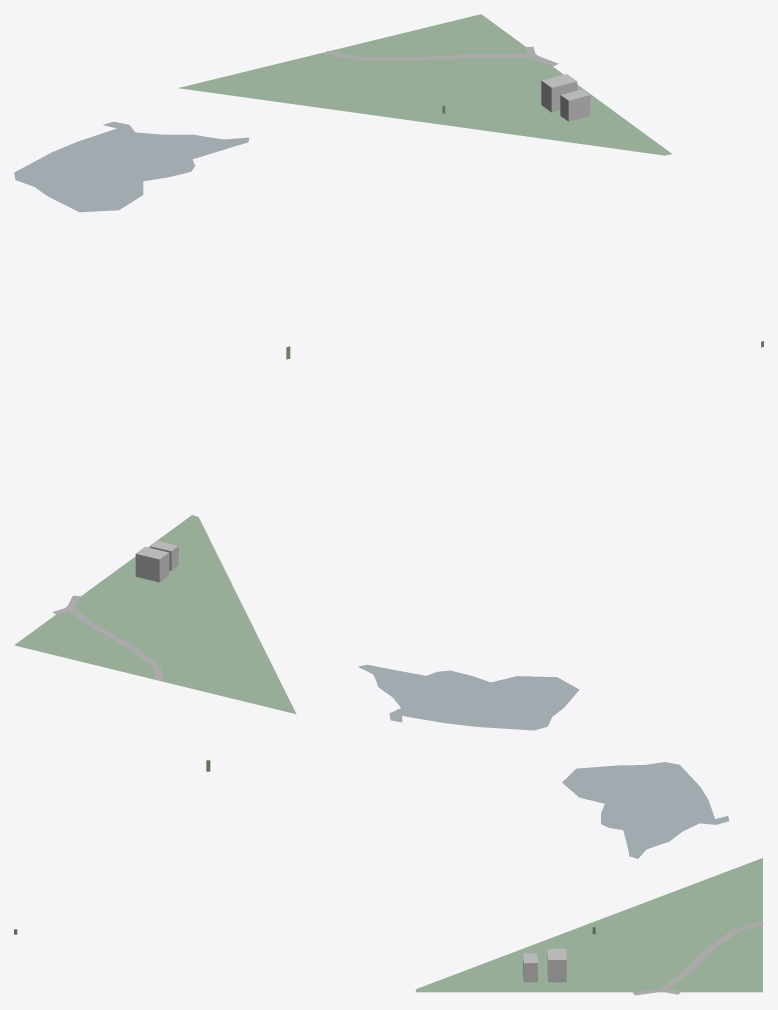
The picture shows the model from 3 angles, top to bottom: view 1: azimuth 30°, elevation 25°; view 2: azimuth 150°, elevation 25°; view 3: azimuth 270°, elevation 25°; orthographic projection. The views are drawn at different scales.
Bounding box in the file's own units: 344 × 15.48 × 467.
